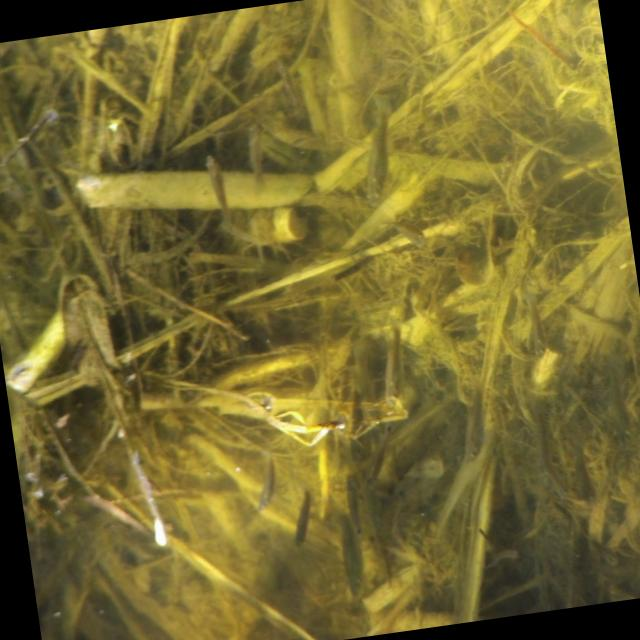Sivrisinek Baligi: (347, 106, 397, 206), (188, 148, 245, 228), (288, 494, 316, 548)
